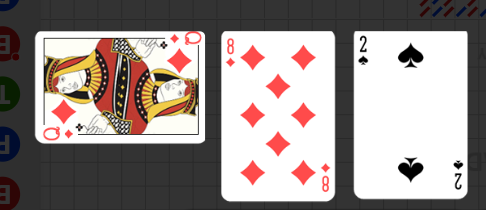2S: (357, 34, 370, 68)
8D: (225, 37, 236, 69)
9D: (41, 126, 75, 142)
